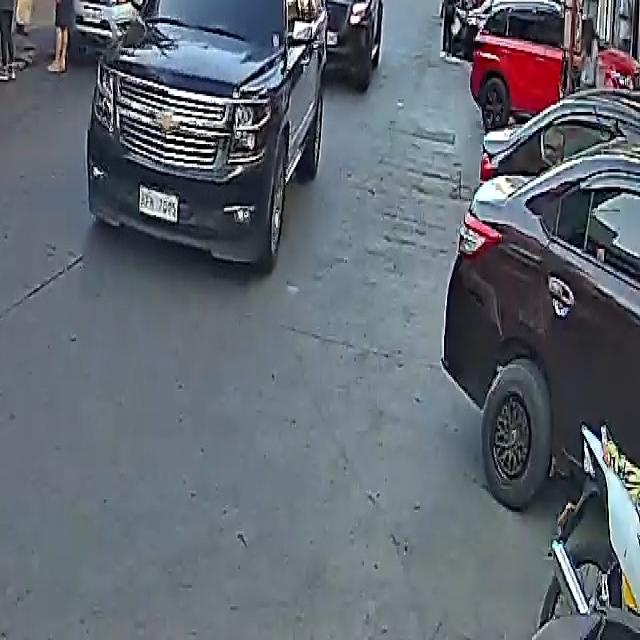car: (445, 80, 640, 524), (84, 0, 333, 270), (468, 0, 600, 128), (313, 0, 388, 89), (76, 0, 186, 18)
